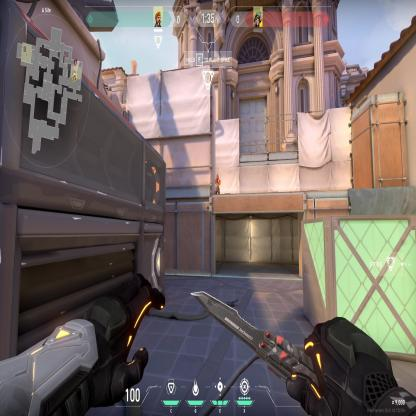enemy: (215, 172, 220, 194)
